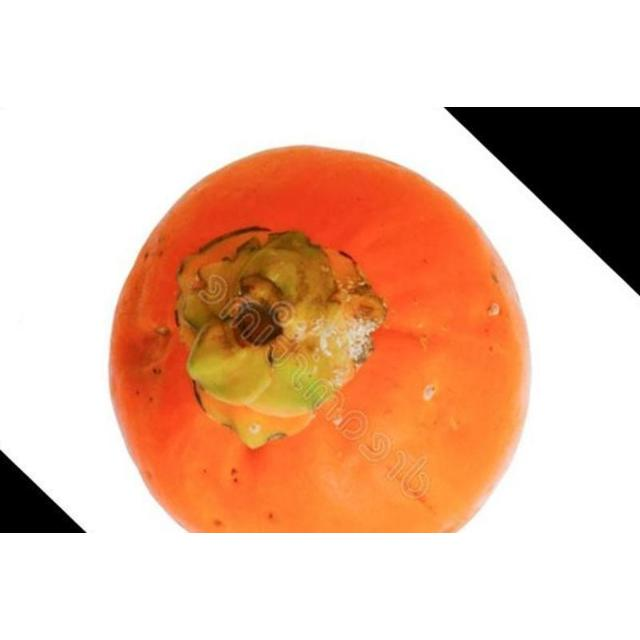good: (110, 146, 532, 533)
